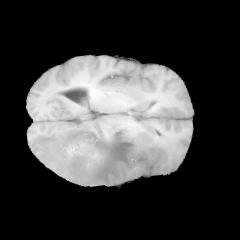glioma: (30, 125, 136, 185)
